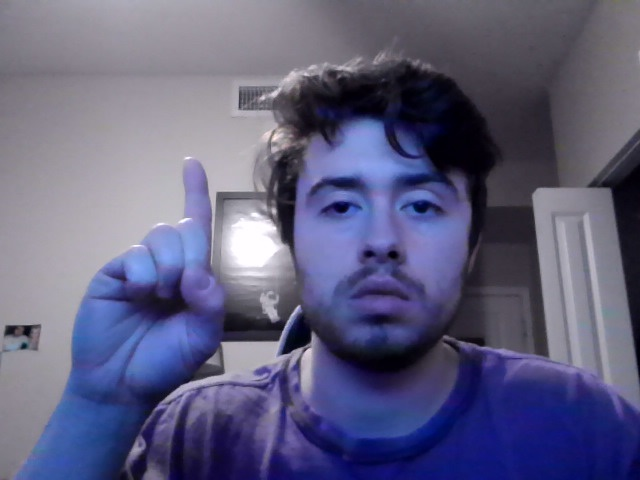d: (70, 155, 226, 414)
